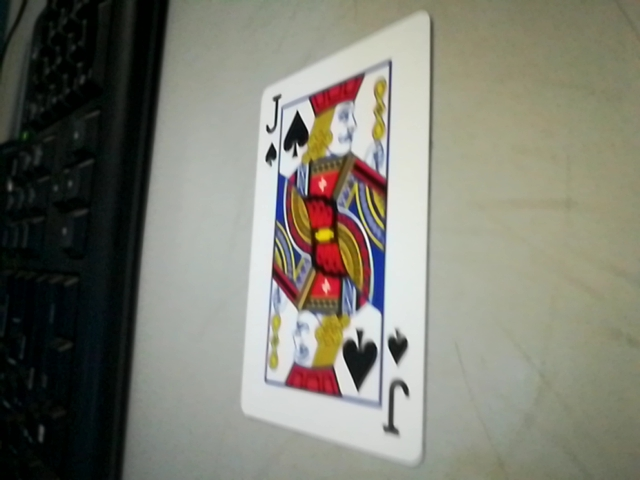ht j: (376, 327, 420, 453)
